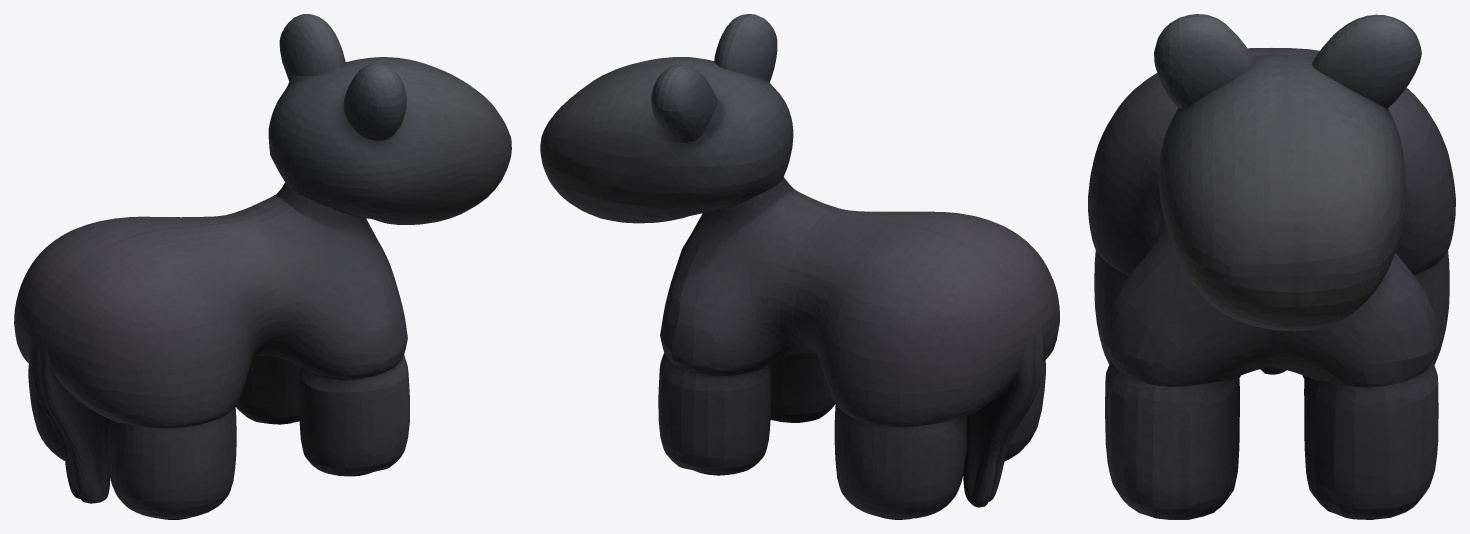
3 views of the same model, side by side, from view 1: azimuth 30°, elevation 25°; view 2: azimuth 150°, elevation 25°; view 3: azimuth 270°, elevation 25° (orthographic). The views are drawn at different scales.
Visible parts, largest first — view 1: world; view 2: world; view 3: world.
Part boxes in pixels (box(x1,y1,x2,y2)): world: box(14, 14, 511, 519); world: box(540, 14, 1059, 519); world: box(1088, 14, 1455, 519).
Size of the model in its own units: 0.9999 by 0.8084 by 0.5203.
1 material, 1 textured.
